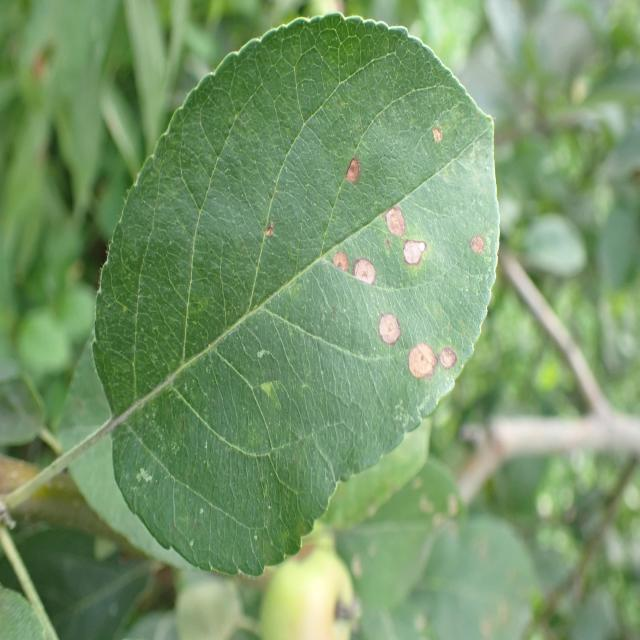Black Rot: (371, 172, 407, 245), (401, 334, 443, 388), (341, 127, 372, 194), (395, 230, 432, 280), (342, 252, 382, 295), (461, 216, 488, 275), (331, 223, 354, 286), (373, 309, 404, 350), (437, 339, 463, 381), (429, 106, 448, 146), (261, 215, 280, 248)
